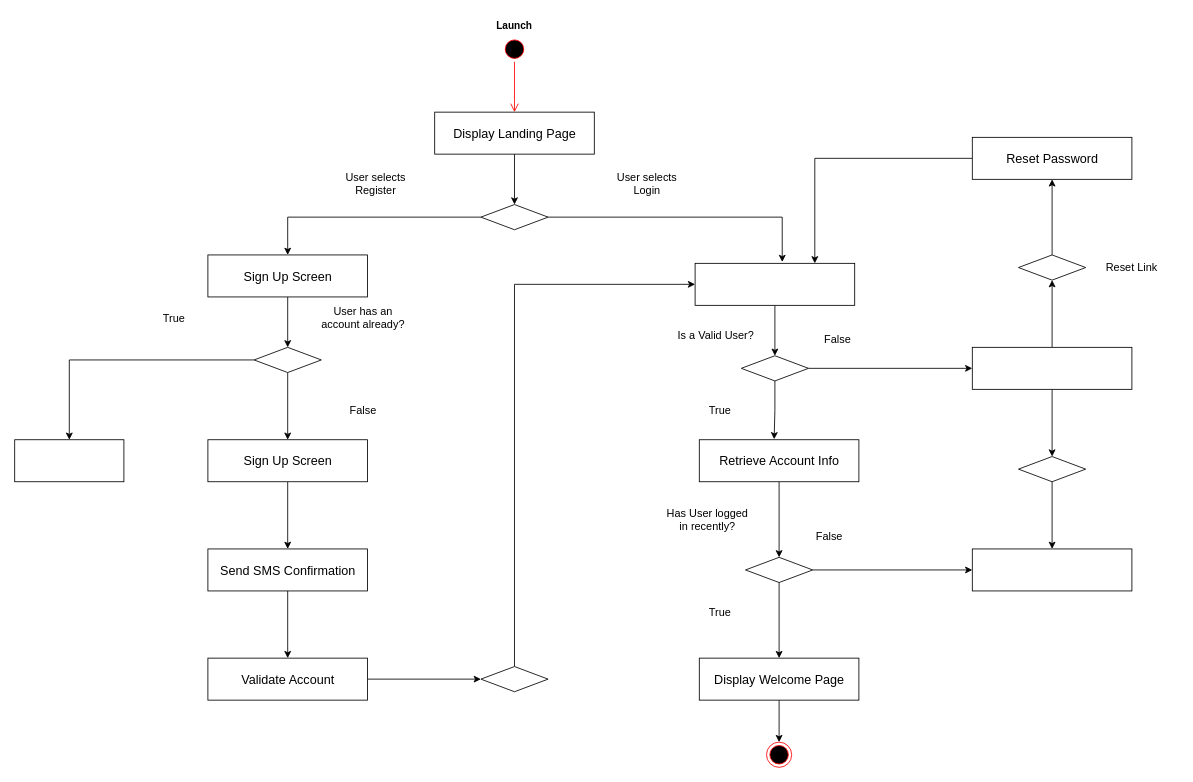
The diagram is 1193 pixels wide and 782 high, and some of its shapes have lost their labels. Each missing label, with the centre of its shape:
"Display an Error message" goes at [69,460].
"Display Login Info Page" goes at [1051,569].
"Display Login Screen" goes at [774,283].
"Forgot Password?" goes at [1051,367].
